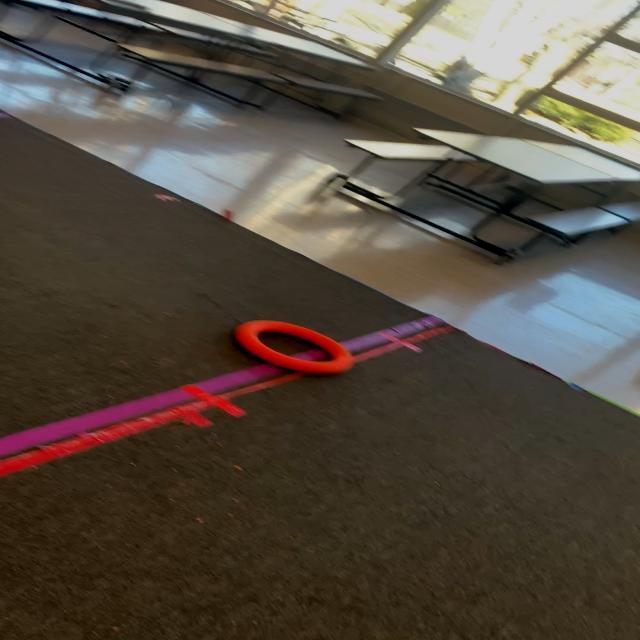notes: (232, 318, 360, 377)
